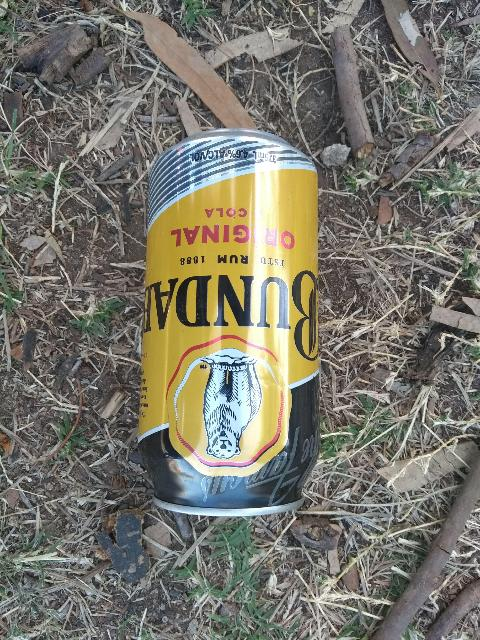metal: (138, 128, 319, 516)
